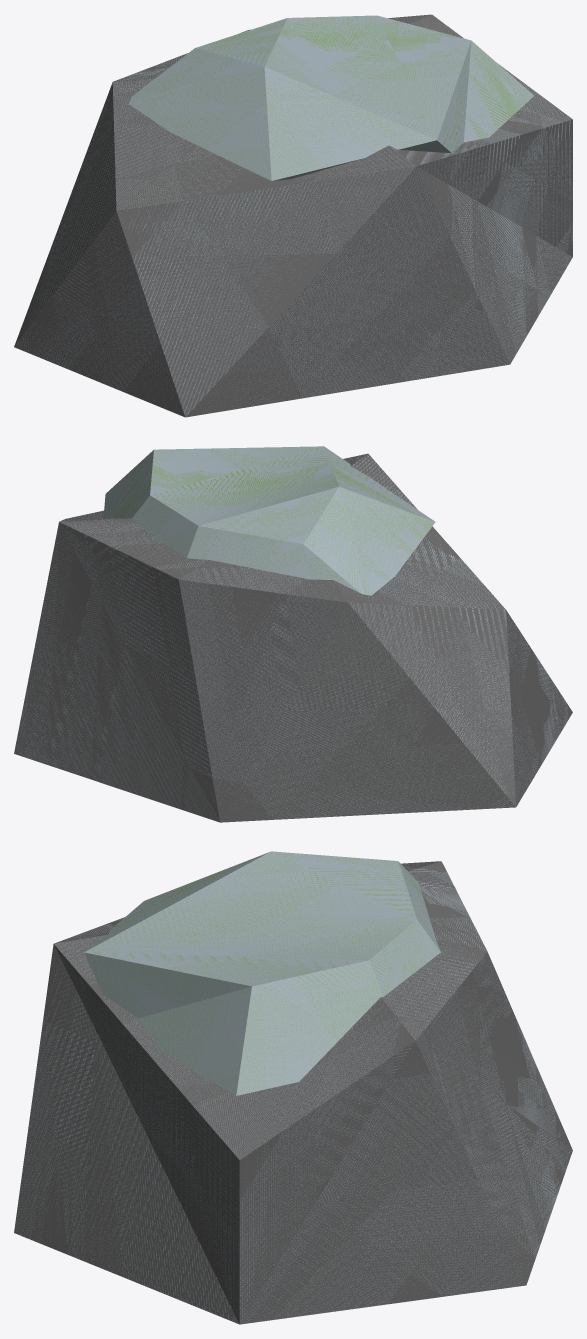
File: Rock_Medium_Grass_01.fbx
The picture shows the model from 3 angles, top to bottom: view 1: azimuth 30°, elevation 25°; view 2: azimuth 150°, elevation 25°; view 3: azimuth 270°, elevation 25°; orthographic projection. The views are drawn at different scales.
Parts seen in each view (by area): view 1: Model; view 2: Model; view 3: Model.
Part boxes in pixels (<box>): Model: <box>14,14,572,417</box>; Model: <box>14,446,572,822</box>; Model: <box>14,851,572,1324</box>.
Bounding box in the file's own units: 376 × 218 × 298.
